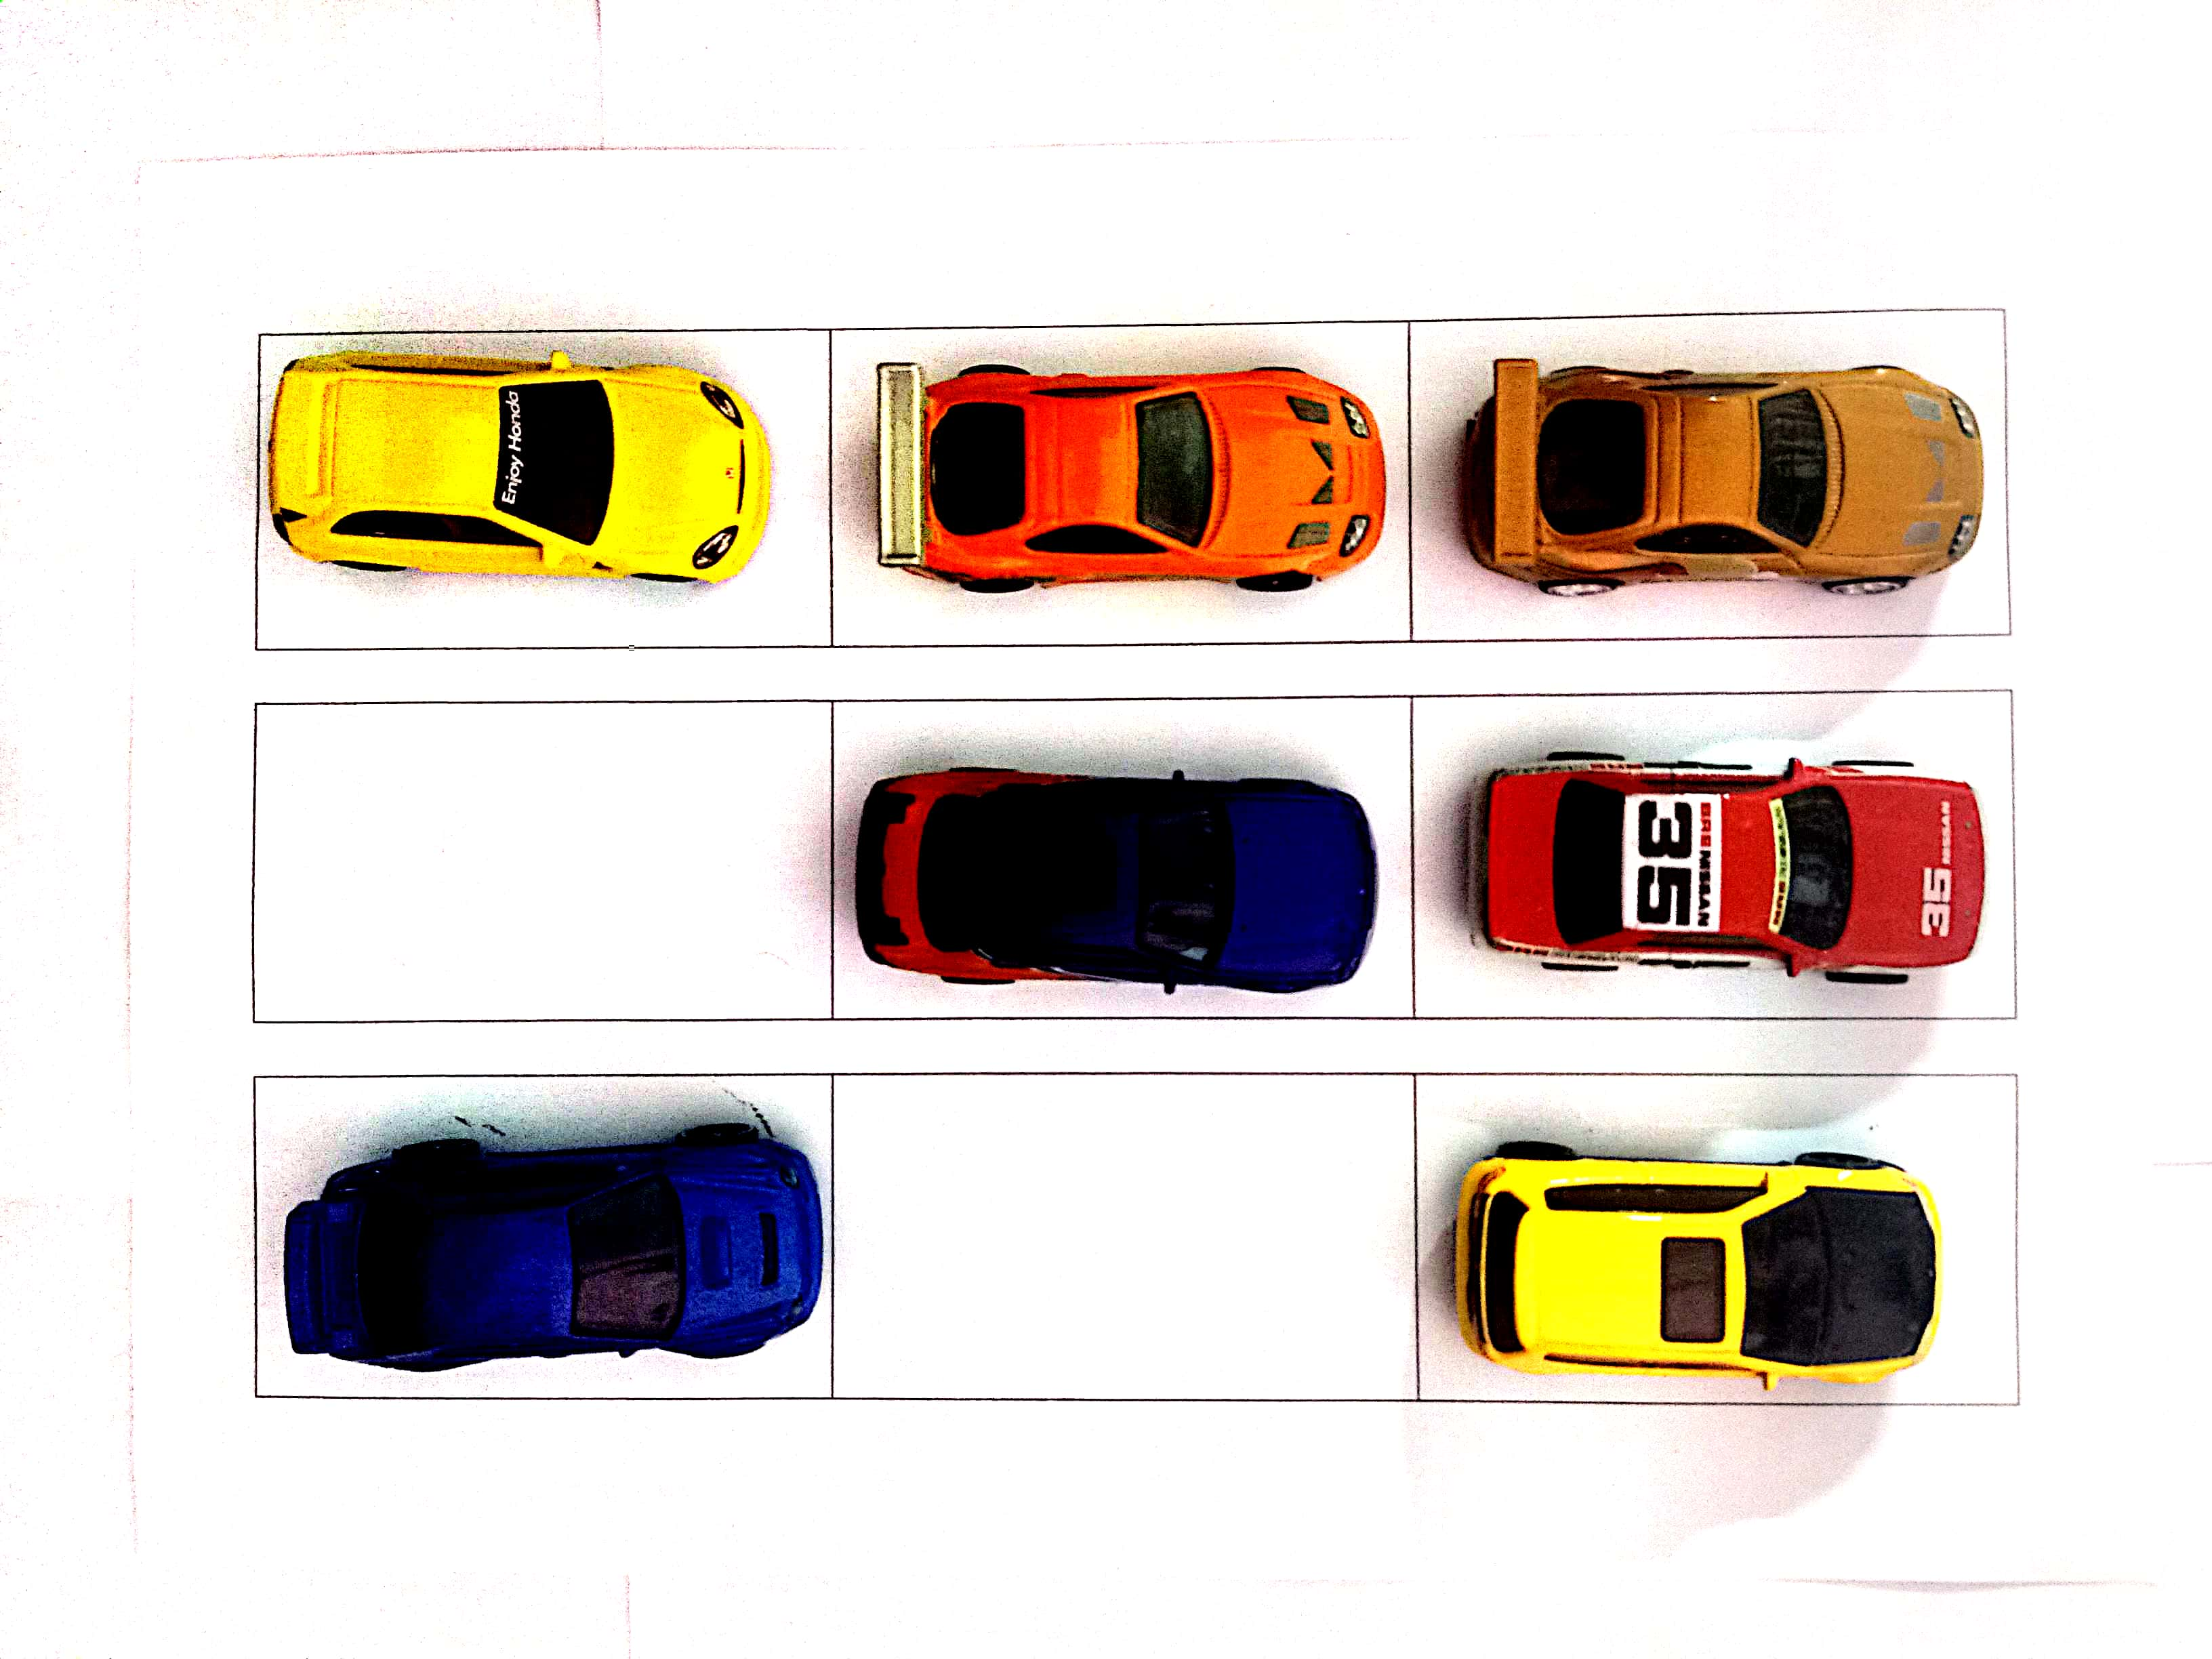Busy: (1413, 314, 2008, 640), (1418, 697, 2013, 1019), (1421, 1077, 2017, 1399), (829, 328, 1409, 648), (260, 328, 833, 650), (834, 704, 1414, 1016), (249, 1082, 829, 1394)
Free: (254, 699, 838, 1014), (833, 1082, 1409, 1399)
